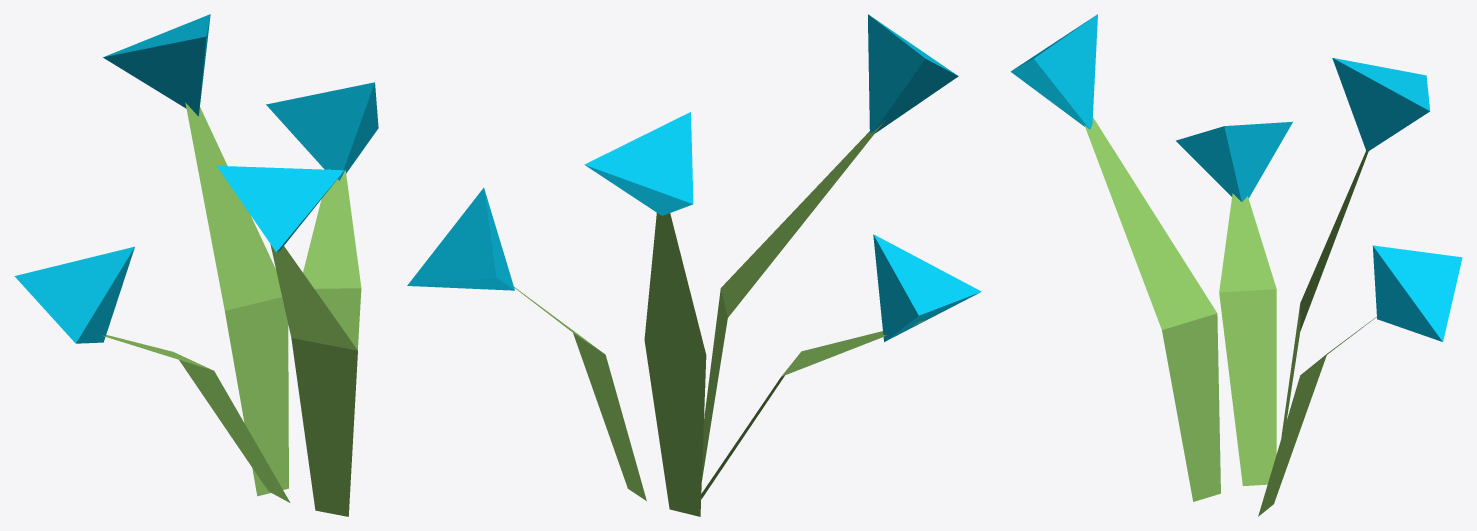
Rendered from flax.glb.
3 views of the same model, side by side, from view 1: azimuth 30°, elevation 25°; view 2: azimuth 150°, elevation 25°; view 3: azimuth 270°, elevation 25° (orthographic). The views are drawn at different scales.
Parts seen in each view (by area): view 1: Cone.001, Cone.002; view 2: Cone.002, Cone.001; view 3: Cone.001, Cone.002.
Boxes of the visible parts, x1,y1,x2,y2 form: Cone.001: (102,102,361,516); Cone.002: (14,14,378,343); Cone.002: (407,14,981,341); Cone.001: (512,120,925,516); Cone.001: (1084,117,1377,516); Cone.002: (1010,14,1462,341).
Size of what is drawn, in the model's own units: 0.8014 by 0.7598 by 0.7533.
